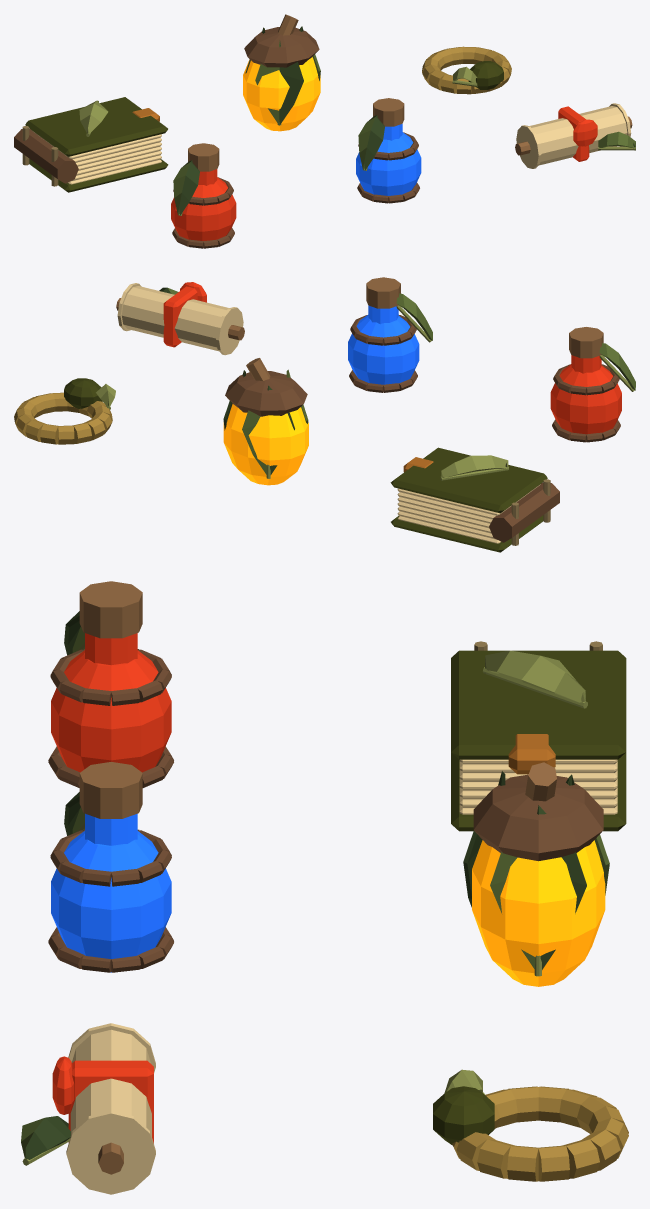
3 renders of one model, top to bottom at view 1: azimuth 30°, elevation 25°; view 2: azimuth 150°, elevation 25°; view 3: azimuth 270°, elevation 25°, orthographic. The views are drawn at different scales.
Visible parts, largest first — view 1: briarwatch-rewards · evaluated preview mesh; view 2: briarwatch-rewards · evaluated preview mesh; view 3: briarwatch-rewards · evaluated preview mesh.
Boxes of the visible parts, <box> form: briarwatch-rewards · evaluated preview mesh: <box>14,14,635,248</box>; briarwatch-rewards · evaluated preview mesh: <box>14,277,635,552</box>; briarwatch-rewards · evaluated preview mesh: <box>21,581,628,1194</box>.
Bounding box in the file's own units: 5.26 × 1.16 × 2.85.
